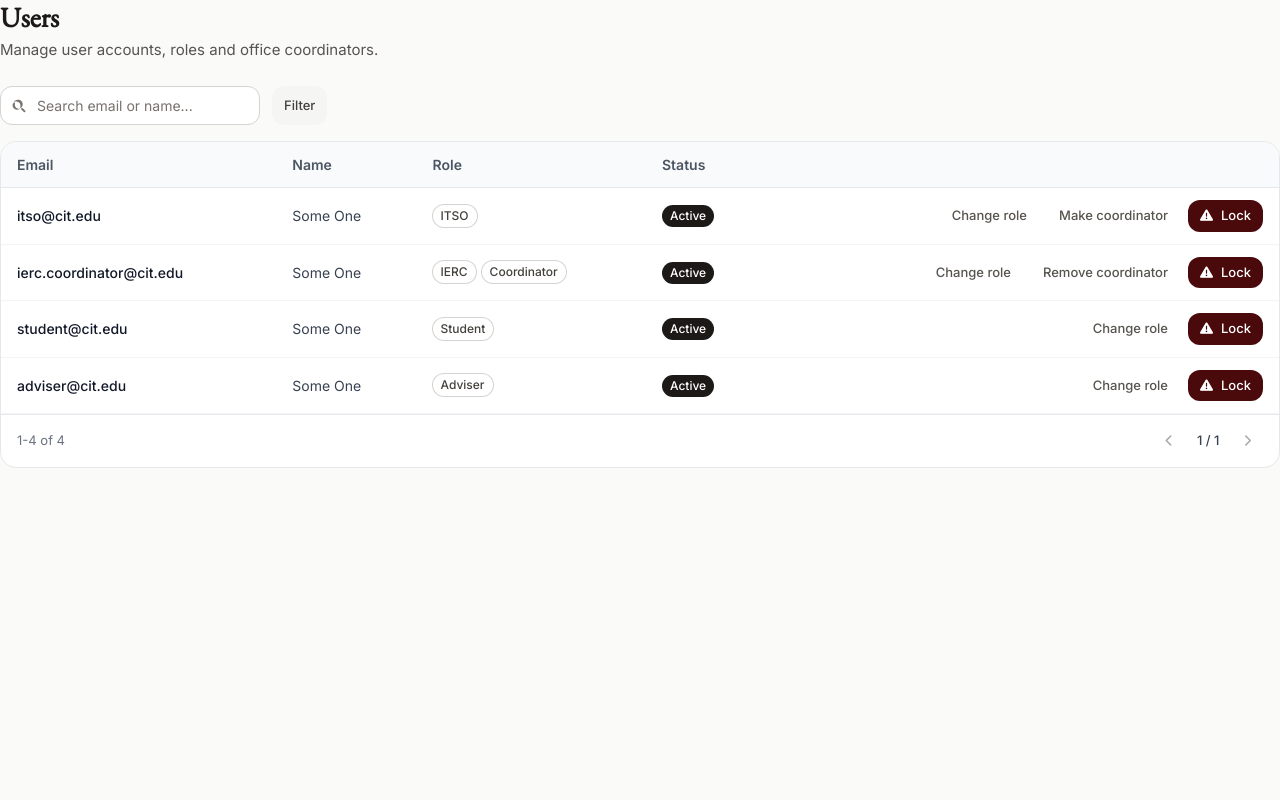
granting › changes nothing when cancelled
The width and height of the screenshot is (1280, 800).
Click the button "Make coordinator" at coordinates (1114, 216), box x1=1047 y1=200 x2=1180 y2=232
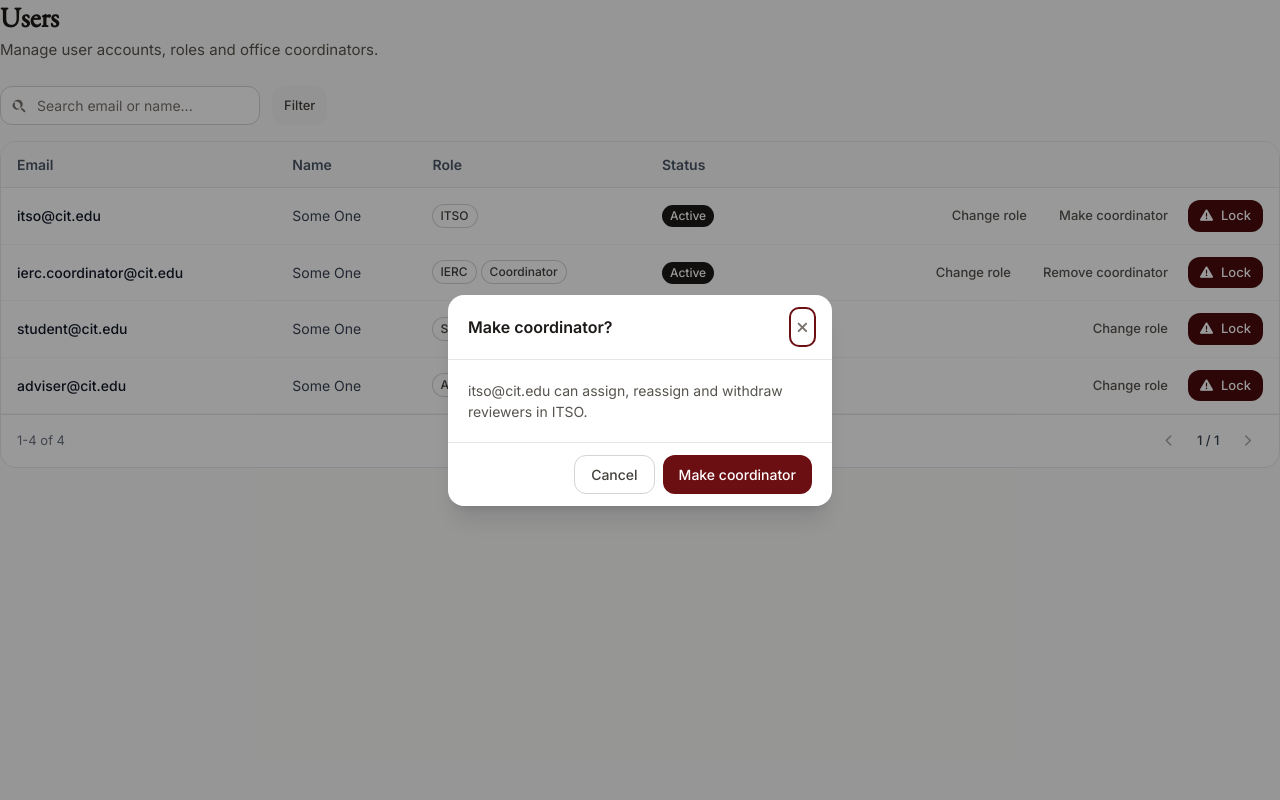
Click the button "Cancel" at coordinates (614, 474), box x1=574 y1=454 x2=655 y2=494
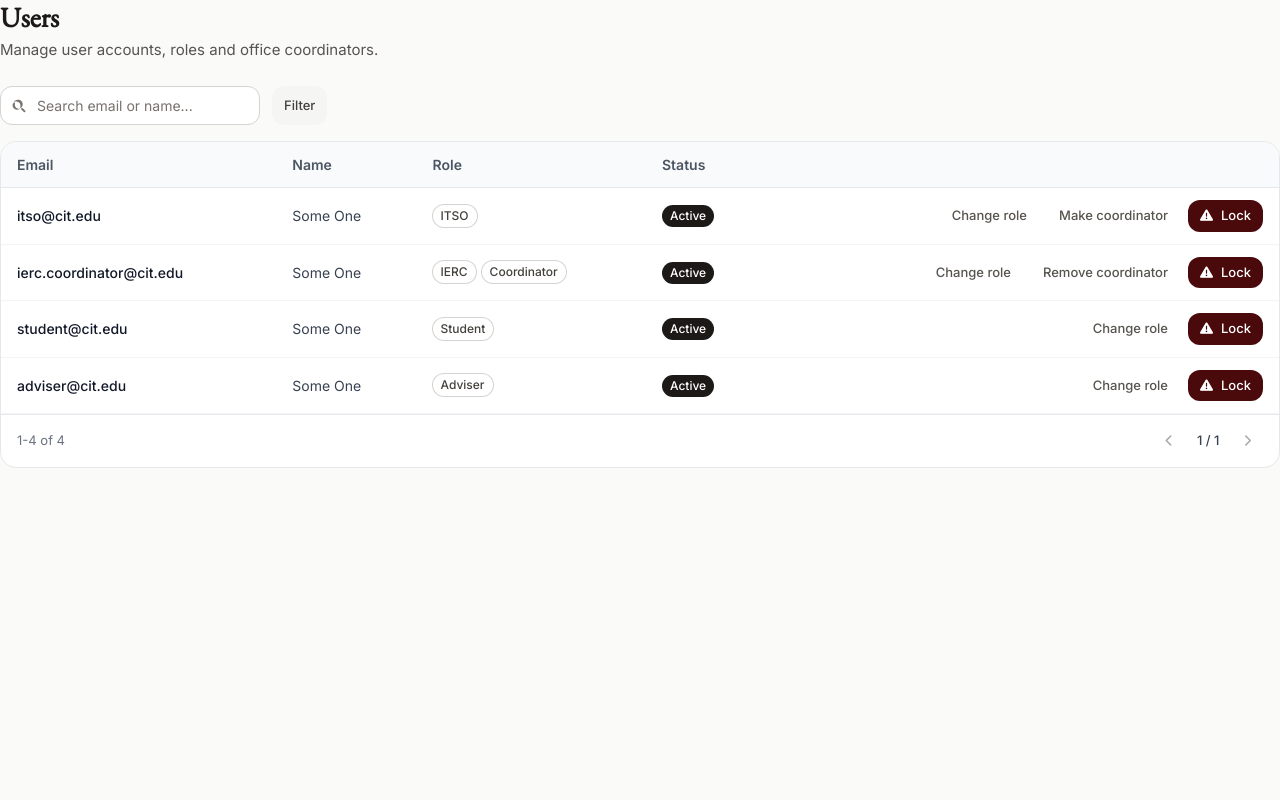
Check: the dialog is gone
